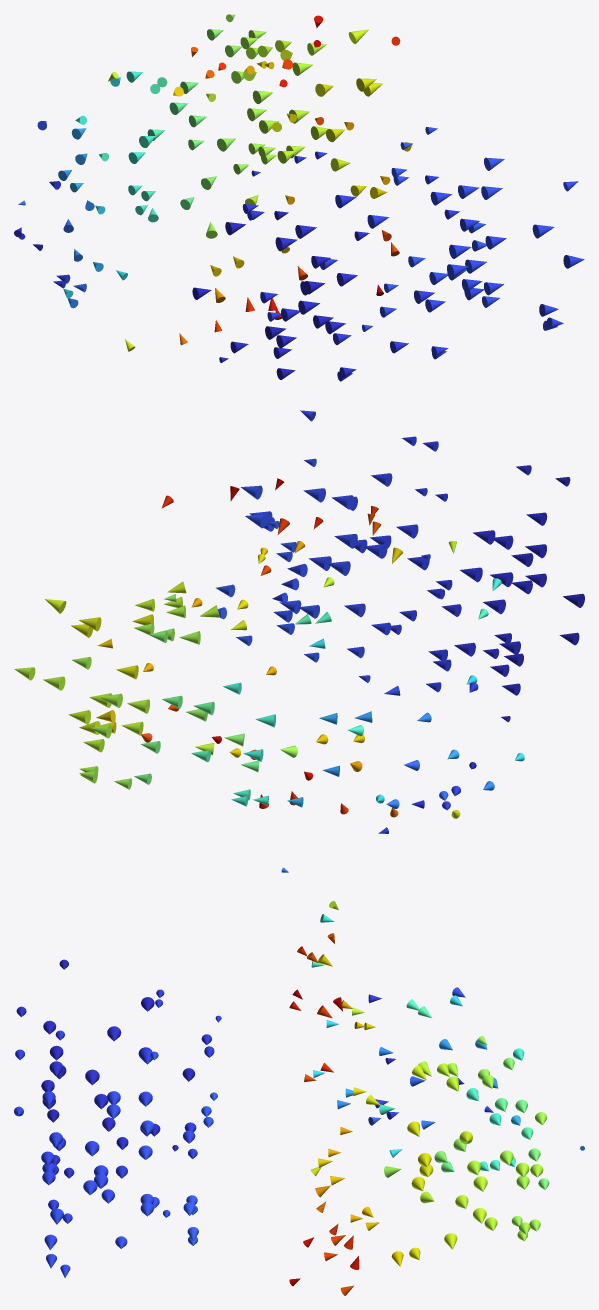
File: LineasCorrienteN2-H2O_mh2-5.58_V-0.9.glb
The picture shows the model from 3 angles, top to bottom: view 1: azimuth 30°, elevation 25°; view 2: azimuth 150°, elevation 25°; view 3: azimuth 270°, elevation 25°; orthographic projection. The views are drawn at different scales.
Bounding box in the file's own units: 0.000983 × 0.00071 × 0.00126.
Materials: 2 (2 with a texture image).
